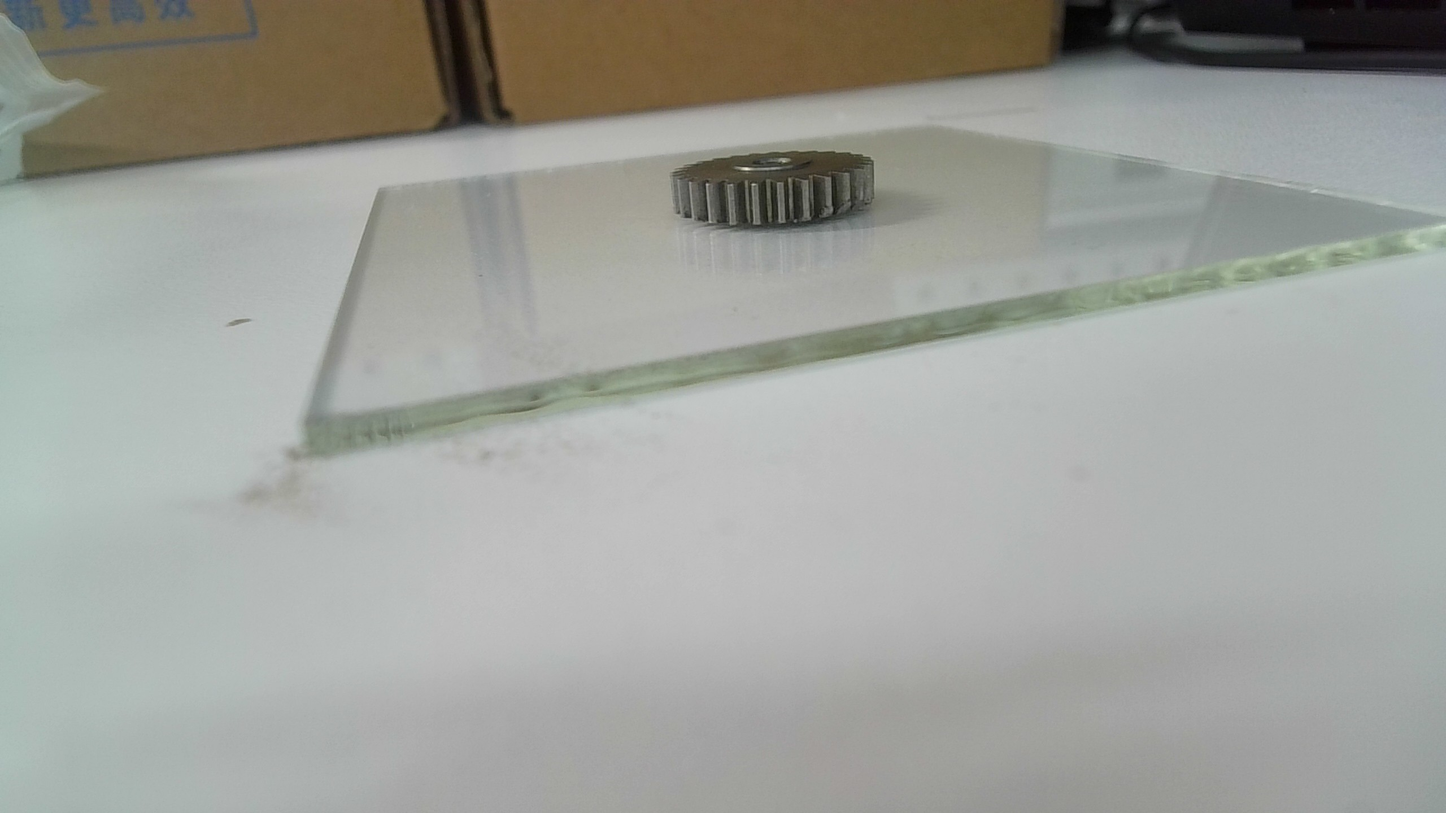gear: (669, 148, 881, 229)
